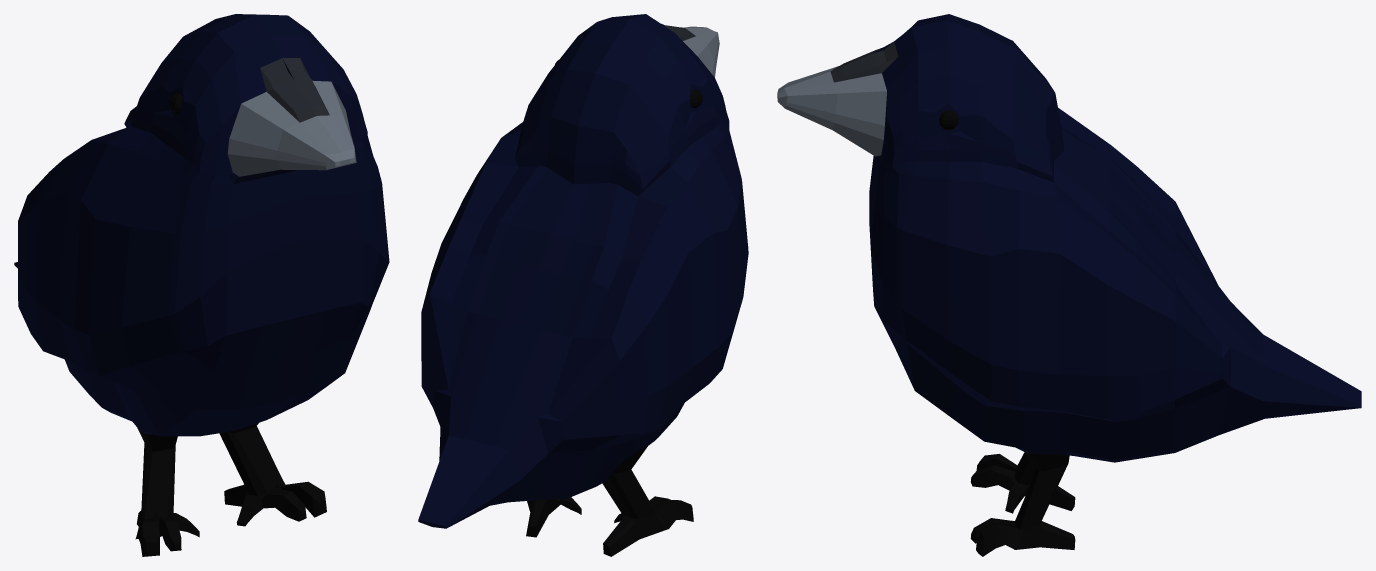
File: Crow_Textured.fbx
The picture shows the model from 3 angles, left to right: view 1: azimuth 30°, elevation 25°; view 2: azimuth 150°, elevation 25°; view 3: azimuth 270°, elevation 25°; orthographic projection. The views are drawn at different scales.
Parts seen in each view (by area): view 1: Plane; view 2: Plane; view 3: Plane.
Part boxes in pixels (bbox=[...]): Plane: bbox=[14, 14, 389, 556]; Plane: bbox=[418, 14, 748, 556]; Plane: bbox=[777, 14, 1361, 556].
Bounding box in the file's own units: 65.08 × 121 × 126.
